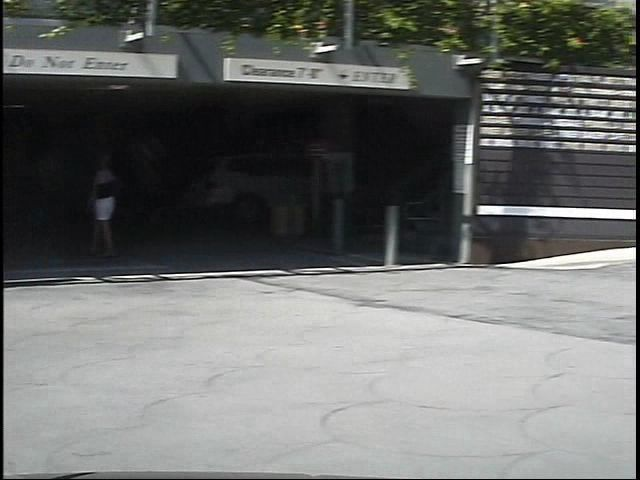person: (67, 147, 115, 270)
